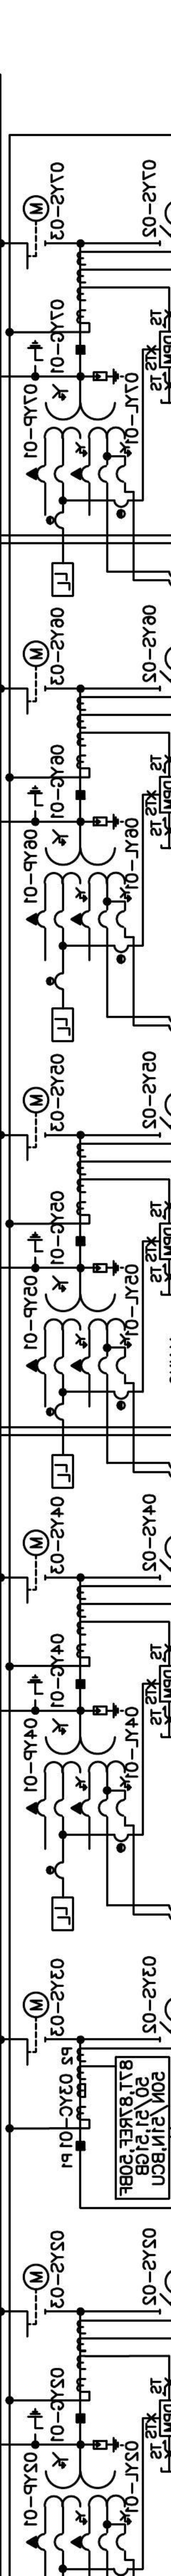115_1way_ds_w_motor: (23, 639, 51, 716), (23, 1528, 51, 1605), (21, 1991, 49, 2067), (23, 1086, 51, 1162), (23, 2262, 51, 2338), (23, 194, 49, 271)
115_gs: (26, 338, 44, 368), (26, 784, 44, 813), (26, 1231, 44, 1260), (26, 1672, 44, 1702), (26, 2407, 44, 2436)
115_la: (92, 368, 125, 386), (92, 1258, 125, 1276), (92, 813, 125, 830), (92, 1702, 125, 1718), (92, 2436, 125, 2453)
115_vt_3p: (25, 383, 132, 485), (25, 828, 132, 930), (25, 1275, 132, 1375), (25, 1717, 132, 1817), (25, 2451, 132, 2551)
LL: (51, 562, 74, 598), (51, 1007, 74, 1043), (51, 1452, 74, 1488), (51, 1896, 74, 1932)
